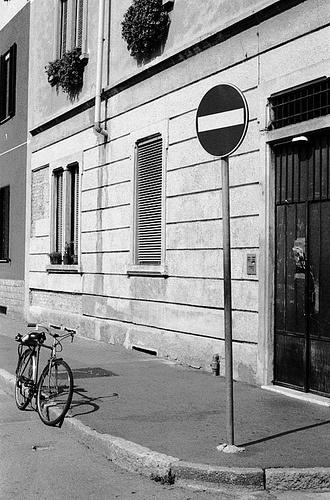bicycle: (12, 323, 78, 427)
